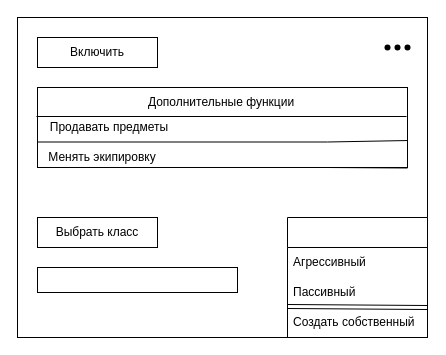
This 446x355 diagram has some shape labels left out. Each missing label, with the box of its shape:
Режимы: (286, 216, 428, 338)
Шаман - Совершенствование: (36, 266, 238, 292)
